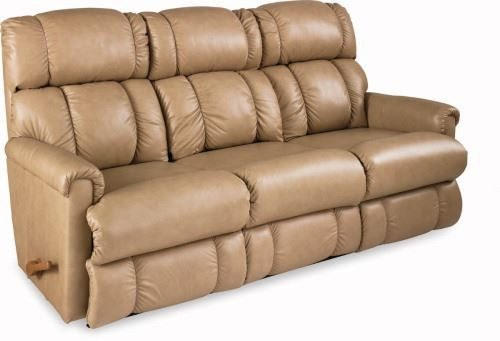3seatersofa: (2, 1, 466, 326)
backrest: (2, 2, 367, 167)
base: (86, 181, 461, 327)
leftarmrest: (366, 93, 459, 135)
rightarmrest: (7, 137, 103, 321)
seat: (87, 129, 465, 264)
